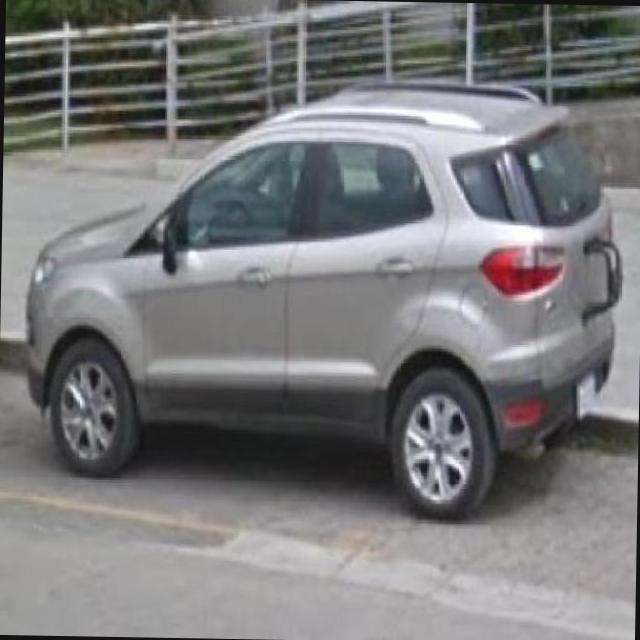car: (23, 72, 620, 522)
